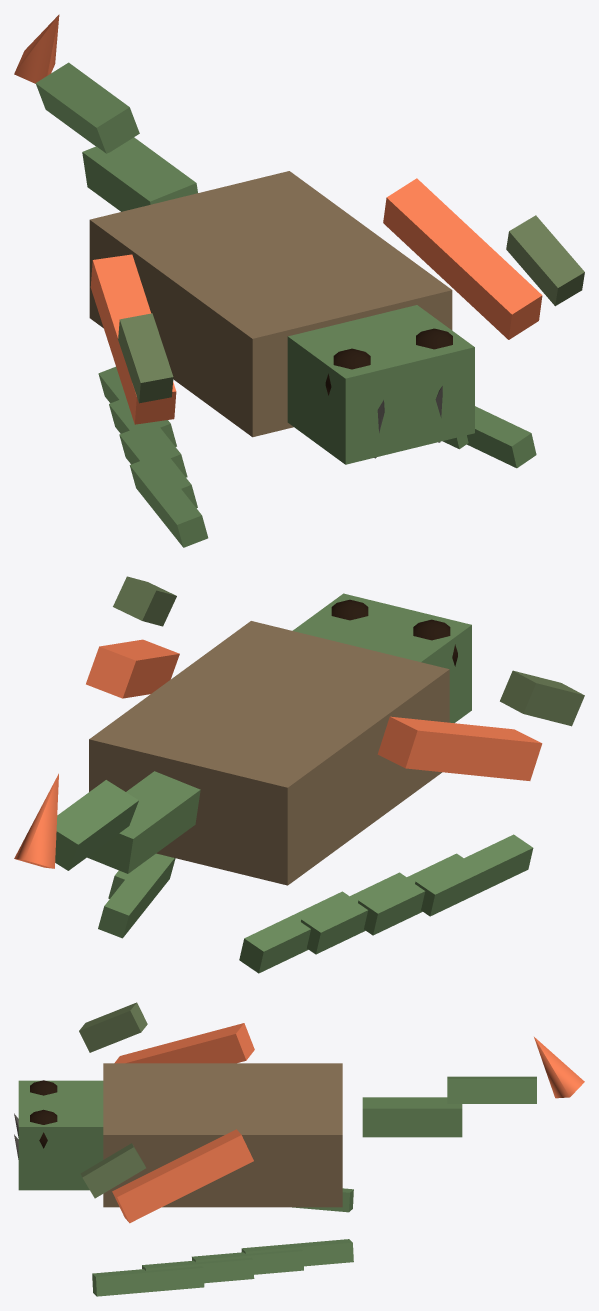
File: DesertScorpionLargeA.glb
The picture shows the model from 3 angles, top to bottom: view 1: azimuth 30°, elevation 25°; view 2: azimuth 150°, elevation 25°; view 3: azimuth 270°, elevation 25°; orthographic projection. The views are drawn at different scales.
Parts seen in each view (by area): view 1: SandScorpionBody; view 2: SandScorpionBody; view 3: SandScorpionBody.
Part boxes in pixels (x1=…): SandScorpionBody: x1=14, y1=14, x2=584, y2=547; SandScorpionBody: x1=14, y1=576, x2=584, y2=973; SandScorpionBody: x1=14, y1=1002, x2=584, y2=1296.
Bounding box in the file's own units: 1.31 × 0.7637 × 1.97.
